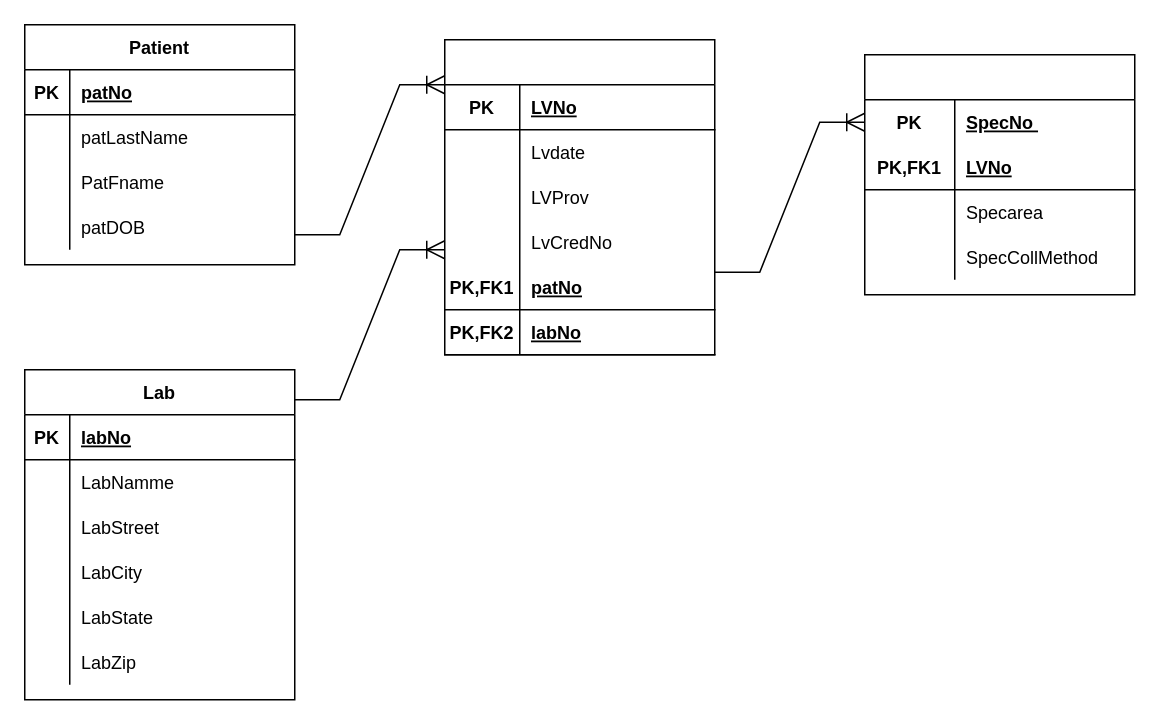
This 1160x725 diagram has some shape labels left out. The box of each missing label's shape, as (x1, y1, x2, y2) in pixels:
LabVisit: (443, 38, 715, 355)
Specimen: (863, 53, 1135, 295)
